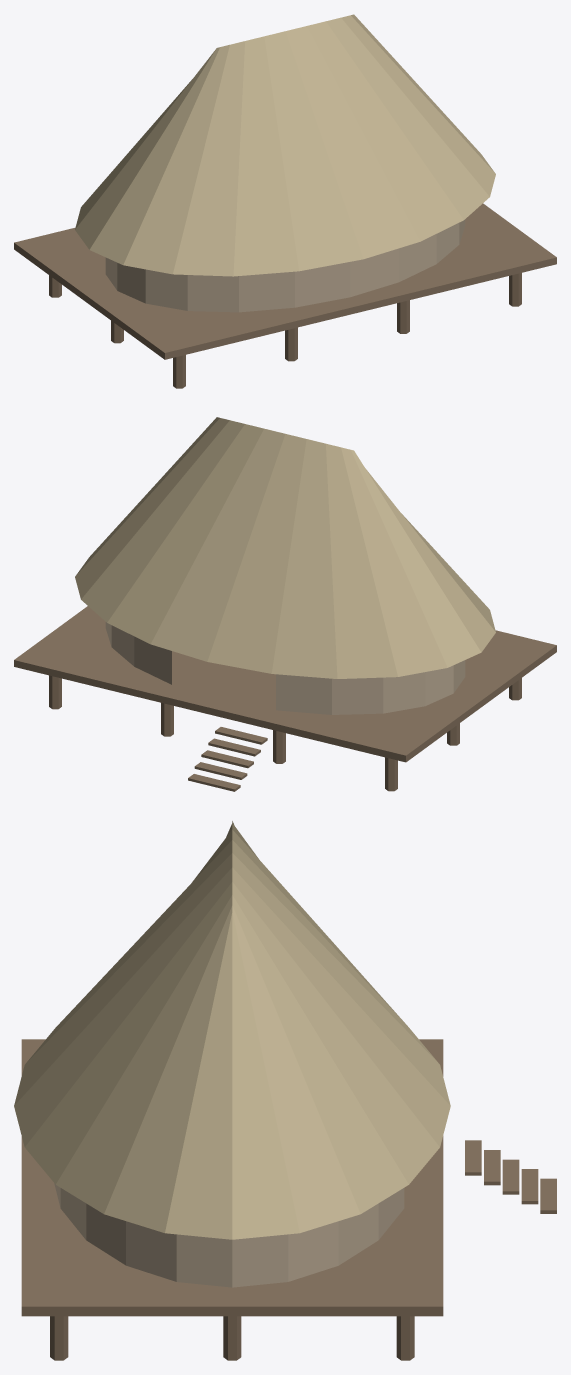
Rendered from hut_stilt.glb.
The picture shows the model from 3 angles, top to bottom: view 1: azimuth 30°, elevation 25°; view 2: azimuth 150°, elevation 25°; view 3: azimuth 270°, elevation 25°; orthographic projection. The views are drawn at different scales.
Visible parts, largest first — view 1: hut_stilt_roof, hut_stilt_deck, hut_stilt_wall; view 2: hut_stilt_roof, hut_stilt_deck, hut_stilt_wall; view 3: hut_stilt_roof, hut_stilt_deck, hut_stilt_wall.
Boxes of the visible parts, x1,y1,x2,y2 form: hut_stilt_roof: (75,14,495,276); hut_stilt_deck: (14,203,556,388); hut_stilt_wall: (105,219,465,312); hut_stilt_roof: (75,417,495,678); hut_stilt_deck: (14,606,556,791); hut_stilt_wall: (105,622,465,714); hut_stilt_roof: (14,821,450,1239); hut_stilt_deck: (21,1039,556,1360); hut_stilt_wall: (54,1183,404,1287).
Bounding box in the file's own units: 8.4 × 5.5 × 7.21.
